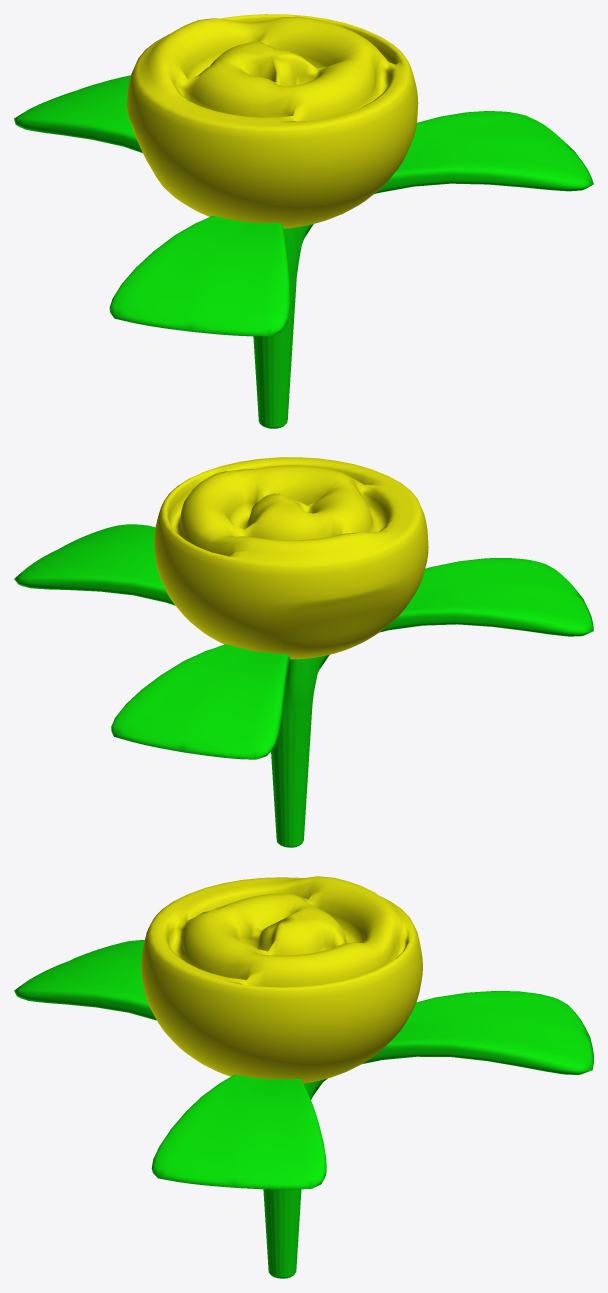
Rendered from Flower.fbx.
3 renders of one model, top to bottom at view 1: azimuth 30°, elevation 25°; view 2: azimuth 150°, elevation 25°; view 3: azimuth 270°, elevation 25°, orthographic. The views are drawn at different scales.
Parts seen in each view (by area): view 1: pSphere3; view 2: pSphere3; view 3: pSphere3.
Part boxes in pixels (bbox=[...]): pSphere3: bbox=[14, 14, 593, 428]; pSphere3: bbox=[14, 457, 593, 847]; pSphere3: bbox=[14, 876, 593, 1278].
Bounding box in the file's own units: 1.8 × 1.22 × 1.8.
